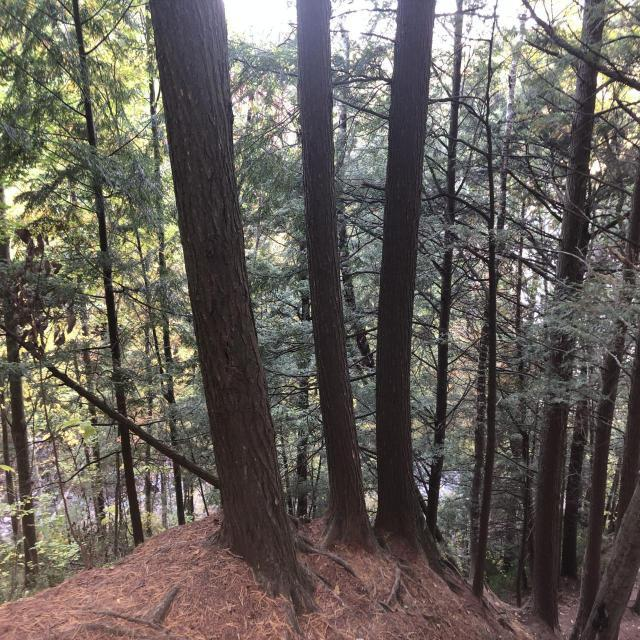fallen_object: (1, 320, 250, 508)
